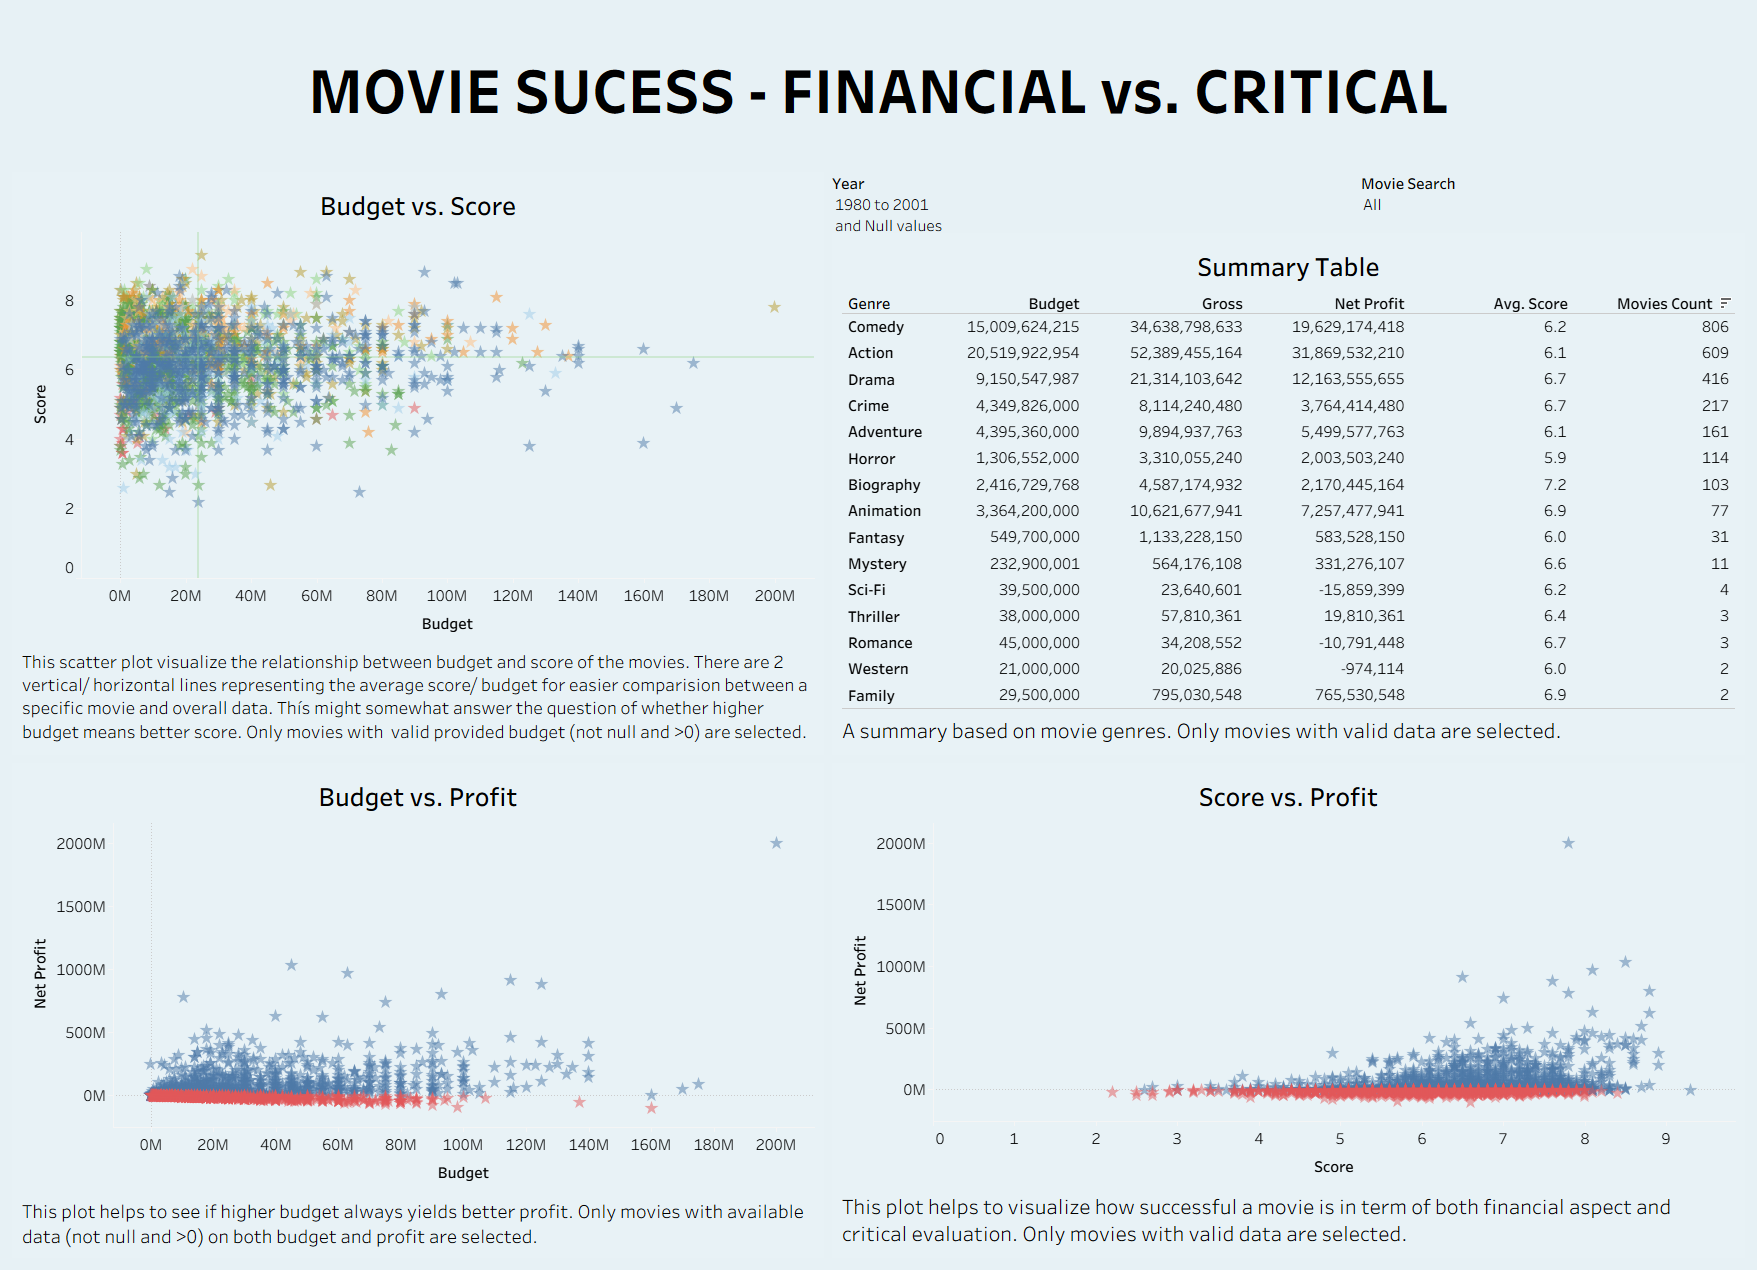

The dashboard page shown, as its layout file describes it:
{"tool":"tableau","page":{"name":"Dashboard 2","canvas":[1000,1000],"units":"permille","ordinal":1},"visuals":[{"type":"title","box":[4.8,6.3,990.3,126]},{"type":"worksheet","title":"Budget vs. Score","mark":"Automatic","rows":["score"],"cols":["budget"],"box":[4.8,132.3,466.5,465.2]},{"type":"filter","title":"Summary Table","param":"[federated.0g33uv619y5pu513yh8qm0dsra5h].[none:year:qk]","box":[471.3,132.3,287.3,48]},{"type":"filter","title":"Summary Table","param":"[federated.0g33uv619y5pu513yh8qm0dsra5h].[none:Calculation_1523624063916322825:n","box":[758.6,132.3,236.6,48]},{"type":"worksheet","title":"Summary Table","mark":"Automatic","rows":["genre"],"box":[471.3,180.3,523.8,417.1]},{"type":"worksheet","title":"Budget vs. Profit","mark":"Automatic","rows":["Calculation_1523624063924809739"],"cols":["budget"],"box":[4.8,597.5,466.4,396.2]},{"type":"worksheet","title":"Score vs. Profit","mark":"Automatic","rows":["Calculation_1523624063924809739"],"cols":["score"],"box":[471.3,597.5,523.9,396.2]}]}

Visuals, with their boxes on the dashboard's canvas, which has no fixed pixel size, in thousandths of its width and height (x1, y1, x2, y2). These are canvas units, not pixel positions in the 1757x1270 screenshot, which may show the page scaled, cropped or inside an application window:
title: select_region(5, 6, 995, 132)
"Budget vs. Score" worksheet: select_region(5, 132, 471, 598)
"Summary Table" filter: select_region(471, 132, 759, 180)
"Summary Table" filter: select_region(759, 132, 995, 180)
"Summary Table" worksheet: select_region(471, 180, 995, 597)
"Budget vs. Profit" worksheet: select_region(5, 598, 471, 994)
"Score vs. Profit" worksheet: select_region(471, 598, 995, 994)
